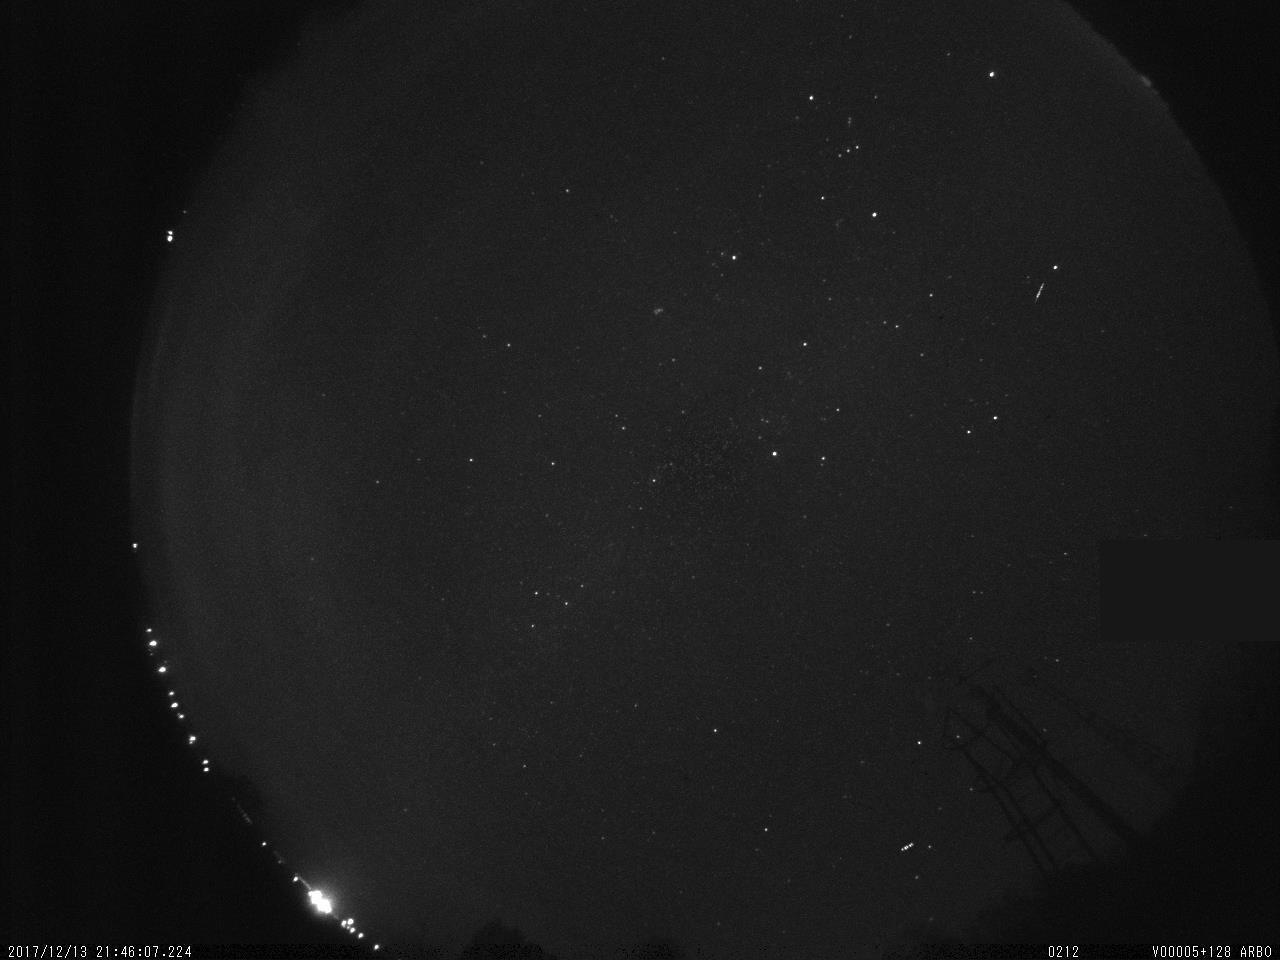meteor: (1027, 273, 1053, 309)
